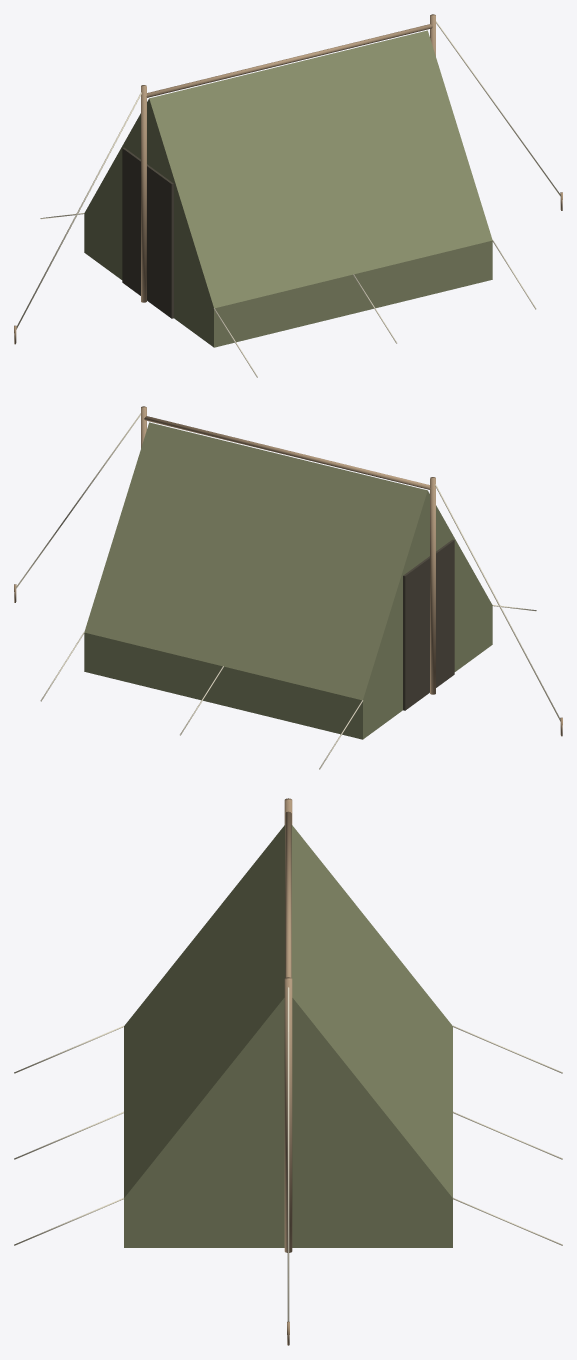
File: tent.glb
The picture shows the model from 3 angles, top to bottom: view 1: azimuth 30°, elevation 25°; view 2: azimuth 150°, elevation 25°; view 3: azimuth 270°, elevation 25°; orthographic projection. The views are drawn at different scales.
Visible parts, largest first — view 1: tent; view 2: tent; view 3: tent.
Part boxes in pixels (x1,y1,x2,y2): tent: (14,14,562,377); tent: (14,406,562,769); tent: (14,798,562,1345).
Bounding box in the file's own units: 5.12 × 2.02 × 3.5.
